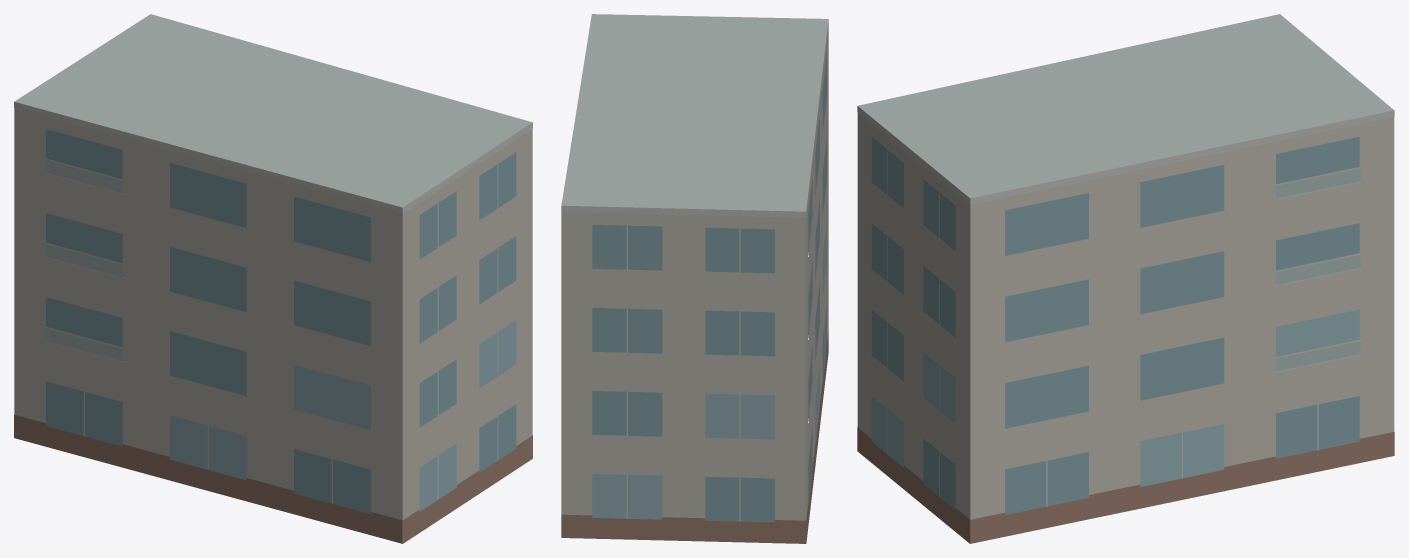
File: survey-upis-32885820.glb
3 renders of one model, left to right at view 1: azimuth 30°, elevation 25°; view 2: azimuth 150°, elevation 25°; view 3: azimuth 270°, elevation 25°, orthographic. The views are drawn at different scales.
Parts seen in each view (by area): view 1: survey-upis-32885820.tmp; view 2: survey-upis-32885820.tmp; view 3: survey-upis-32885820.tmp.
Boxes of the visible parts, bbox=[...] form: survey-upis-32885820.tmp: bbox=[14, 14, 532, 543]; survey-upis-32885820.tmp: bbox=[561, 14, 828, 543]; survey-upis-32885820.tmp: bbox=[857, 14, 1394, 543].
Size of the model in its own units: 15.12 by 13.2 by 18.61.
